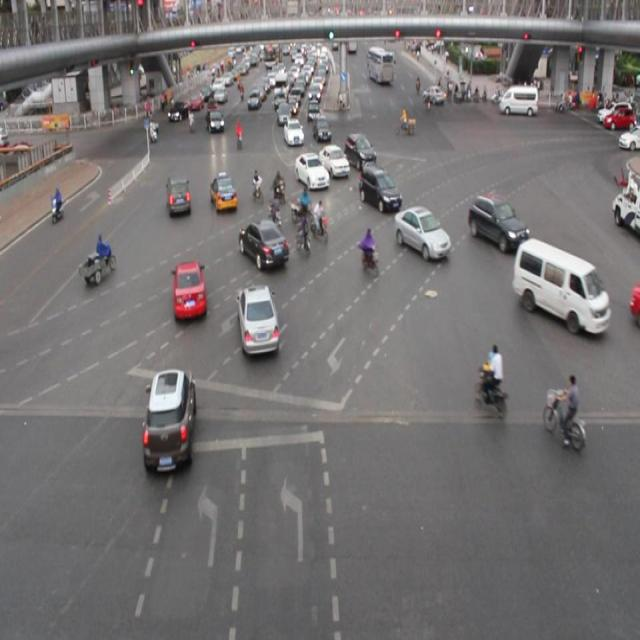car: (142, 367, 196, 473), (466, 189, 525, 252), (234, 282, 278, 358), (393, 203, 449, 262), (239, 219, 289, 270), (171, 258, 207, 326), (356, 163, 401, 214), (294, 151, 330, 192), (209, 172, 239, 216), (317, 141, 350, 181), (343, 132, 377, 170), (166, 173, 193, 218)
truck: (513, 235, 607, 335)
